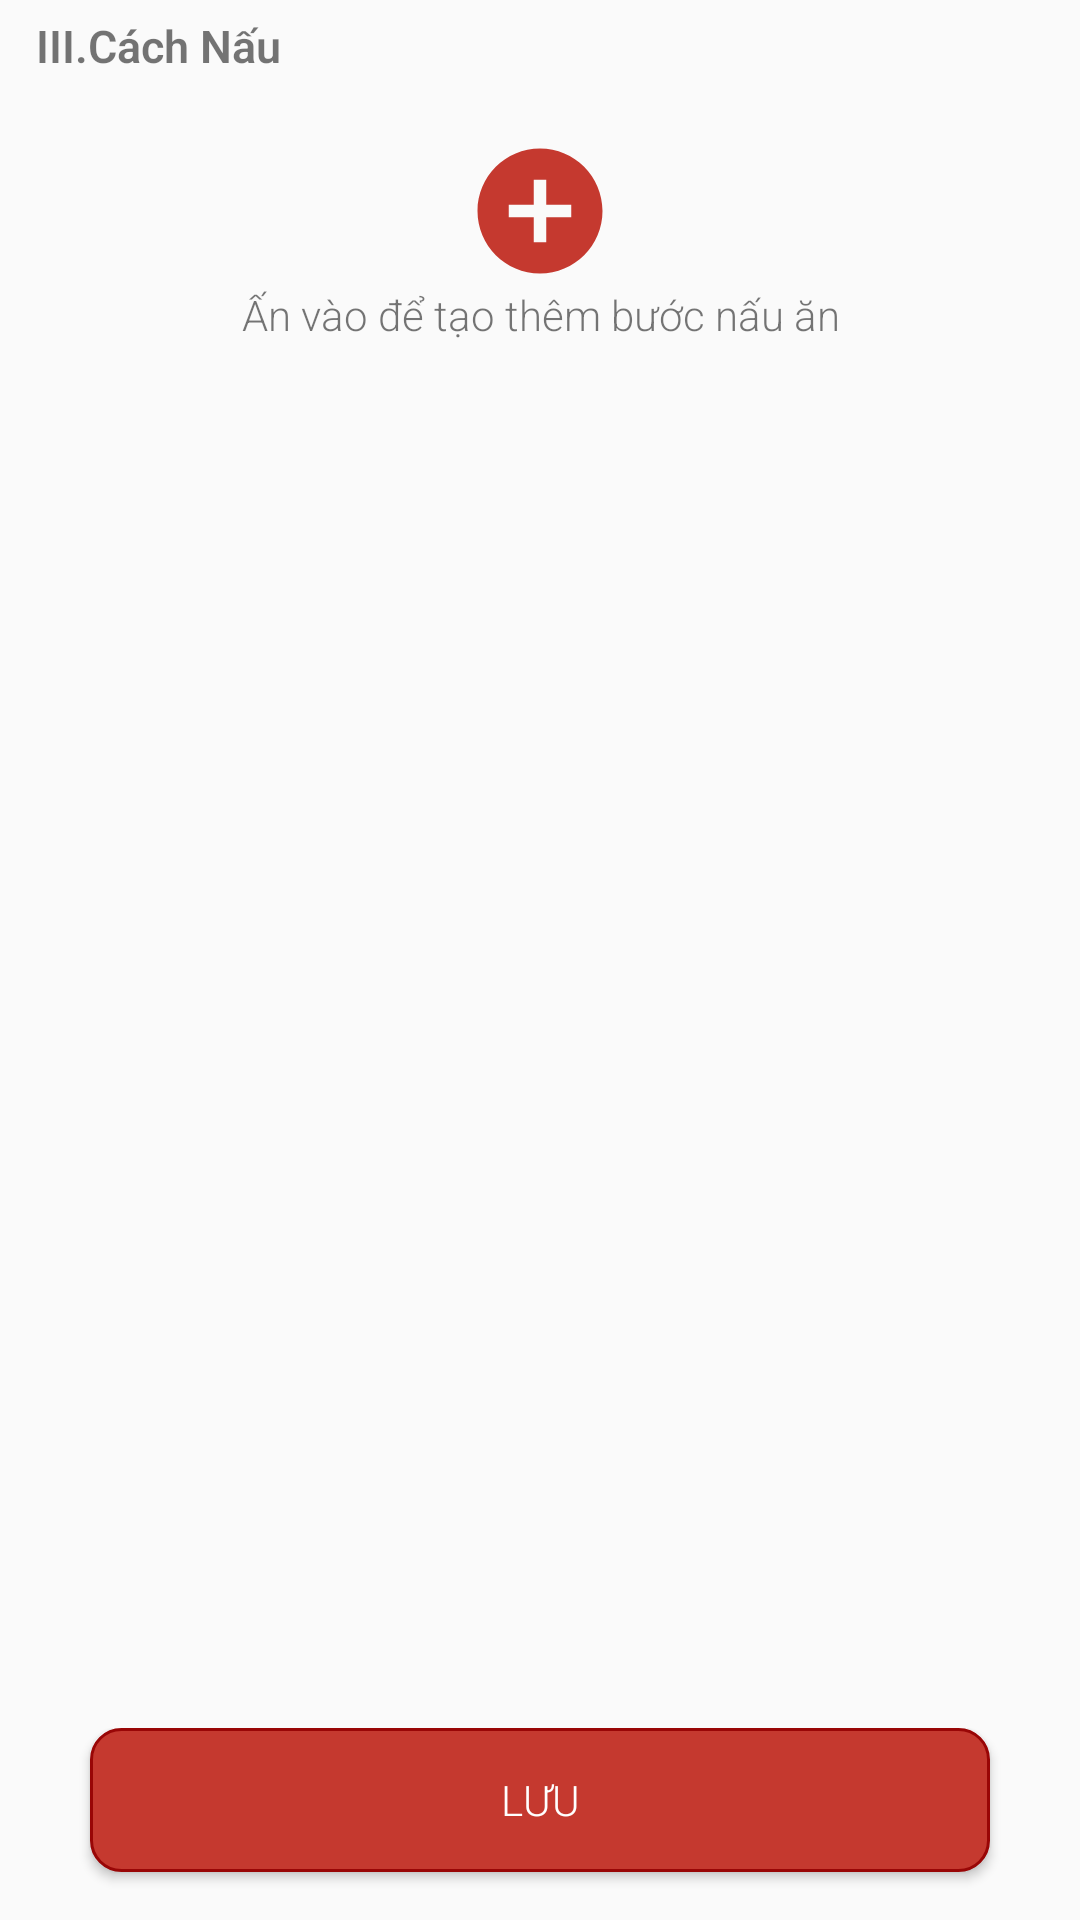

Where icons sit on this 1080×1920 app screen, as bbox=(x1, y1, x2, y2):
add: bbox=(477, 148, 603, 274)
